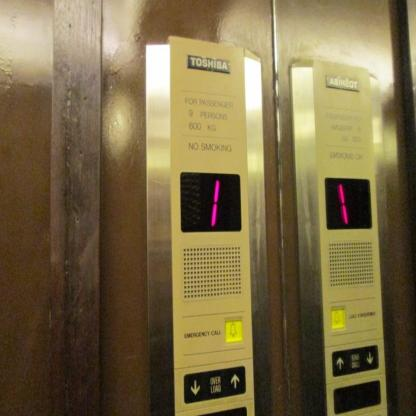alarm: (223, 316, 244, 343), (329, 305, 347, 331)
down: (361, 344, 378, 369)
led: (180, 172, 242, 232), (324, 176, 373, 230)
text_blur: (348, 346, 362, 372)
up: (331, 350, 350, 377)
